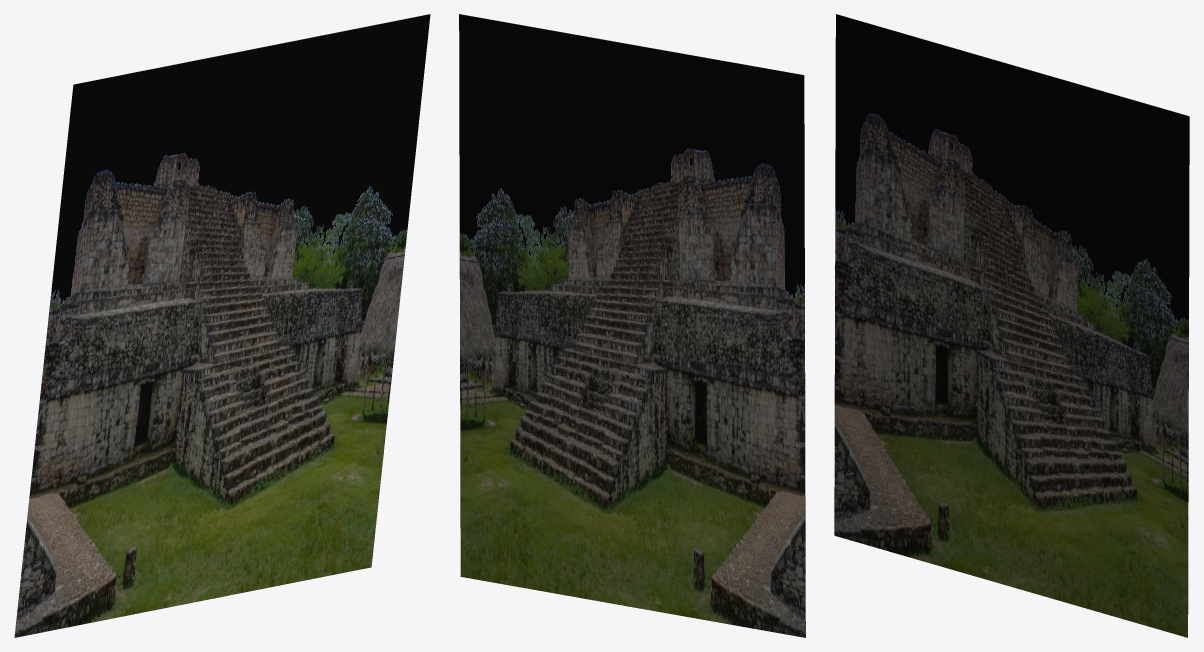
File: EkBalam.glb
The picture shows the model from 3 angles, left to right: view 1: azimuth 30°, elevation 25°; view 2: azimuth 150°, elevation 25°; view 3: azimuth 330°, elevation 25°; orthographic projection. The views are drawn at different scales.
Visible parts, largest first — view 1: Mesh_0.003; view 2: Mesh_0.003; view 3: Mesh_0.003.
Boxes of the visible parts, x1,y1,x2,y2 form: Mesh_0.003: (14, 14, 430, 637); Mesh_0.003: (459, 14, 805, 637); Mesh_0.003: (834, 14, 1189, 637).
Bounding box in the file's own units: 14.37 × 20.6 × 2.08.
Materials: 1 (1 with a texture image).
